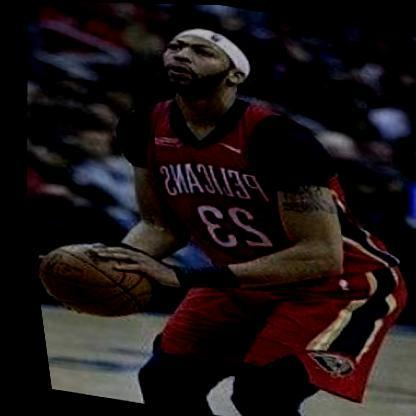basketball: (24, 228, 157, 326)
